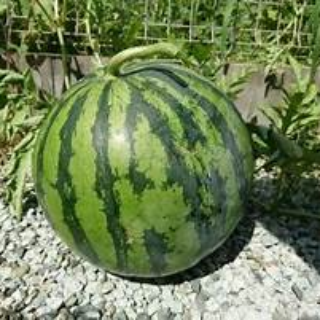dua_hau: (30, 50, 256, 285)
